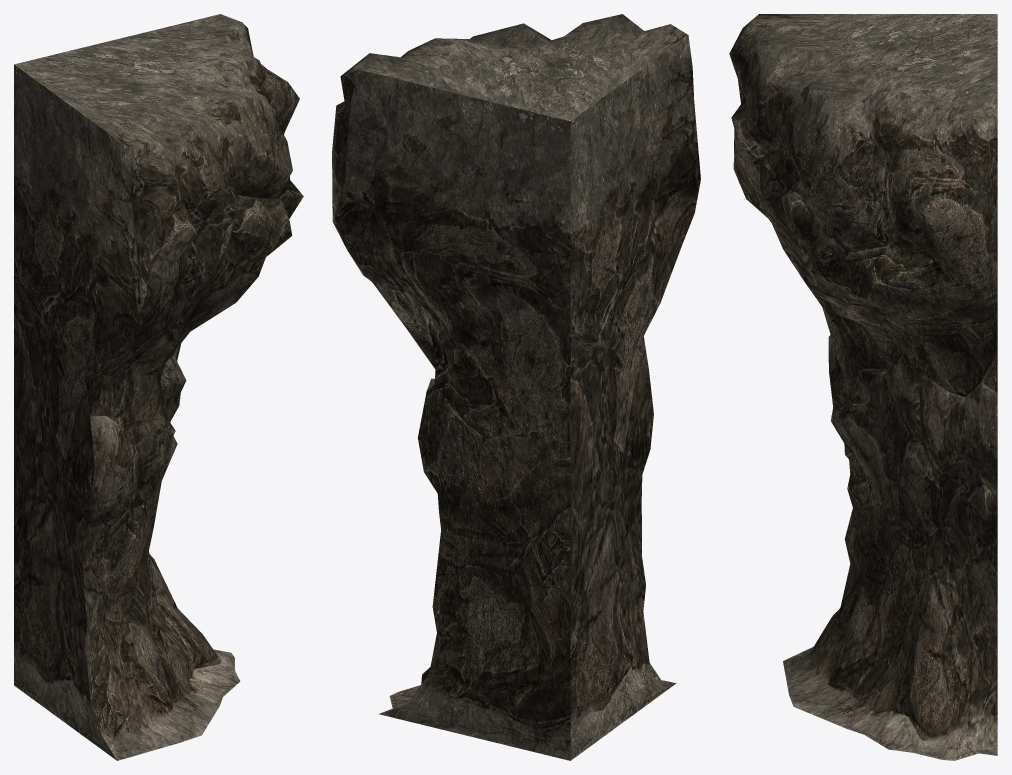
The model's file is SM_Env_Fire_Cliffs_CliffWall_06b.FBX.
3 views of the same model, side by side, from view 1: azimuth 30°, elevation 25°; view 2: azimuth 150°, elevation 25°; view 3: azimuth 270°, elevation 25° (orthographic). The views are drawn at different scales.
Parts seen in each view (by area): view 1: SM_Env_Fire_Cliffs_CliffWall_06b; view 2: SM_Env_Fire_Cliffs_CliffWall_06b; view 3: SM_Env_Fire_Cliffs_CliffWall_06b.
Part boxes in pixels (bbox=[...]): SM_Env_Fire_Cliffs_CliffWall_06b: bbox=[14, 14, 303, 760]; SM_Env_Fire_Cliffs_CliffWall_06b: bbox=[332, 14, 700, 760]; SM_Env_Fire_Cliffs_CliffWall_06b: bbox=[729, 14, 997, 760].
Bounding box in the file's own units: 812 × 722 × 1935.
